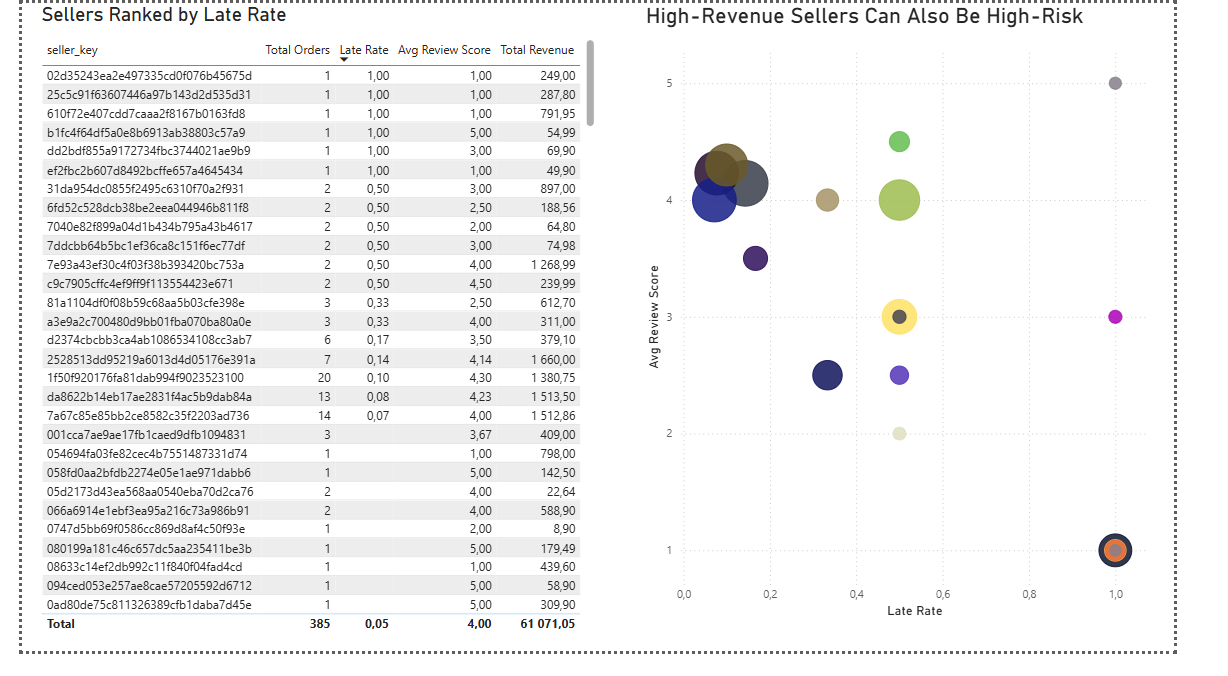

The page's visual inventory and layout, read from the dashboard file:
{"tool":"powerbi","page":{"name":"Sellers","canvas":[1280,720],"ordinal":2},"visuals":[{"type":"tableEx","title":"Sellers Ranked by Late Rate","fields":{"Values":["DIM_SELLER.seller_key","FACT_ORDERS_2.Total Orders","FACT_ORDERS_2.Late Rate","FACT_ORDERS_2.Avg Review Score","FACT_ORDERS_2.Total Revenue"]},"box":[16,0,624,704],"z":0},{"type":"scatterChart","title":"High-Revenue Sellers Can Also Be High-Risk","fields":{"X":["FACT_ORDERS_2.Late Rate"],"Y":["FACT_ORDERS_2.Avg Review Score"],"Size":["FACT_ORDERS_2.Total Revenue"],"Series":["DIM_SELLER.seller_key"]},"box":[688,0,576,688],"z":1000}]}

Visuals, with their boxes in screenshot pixels (x1, y1, x2, y2), scaled from the page's 1280x720 canvas onto the 1228x676 screenshot:
"Sellers Ranked by Late Rate" tableEx: <bbox>15, 0, 614, 661</bbox>
"High-Revenue Sellers Can Also Be High-Risk" scatterChart: <bbox>660, 0, 1213, 646</bbox>
